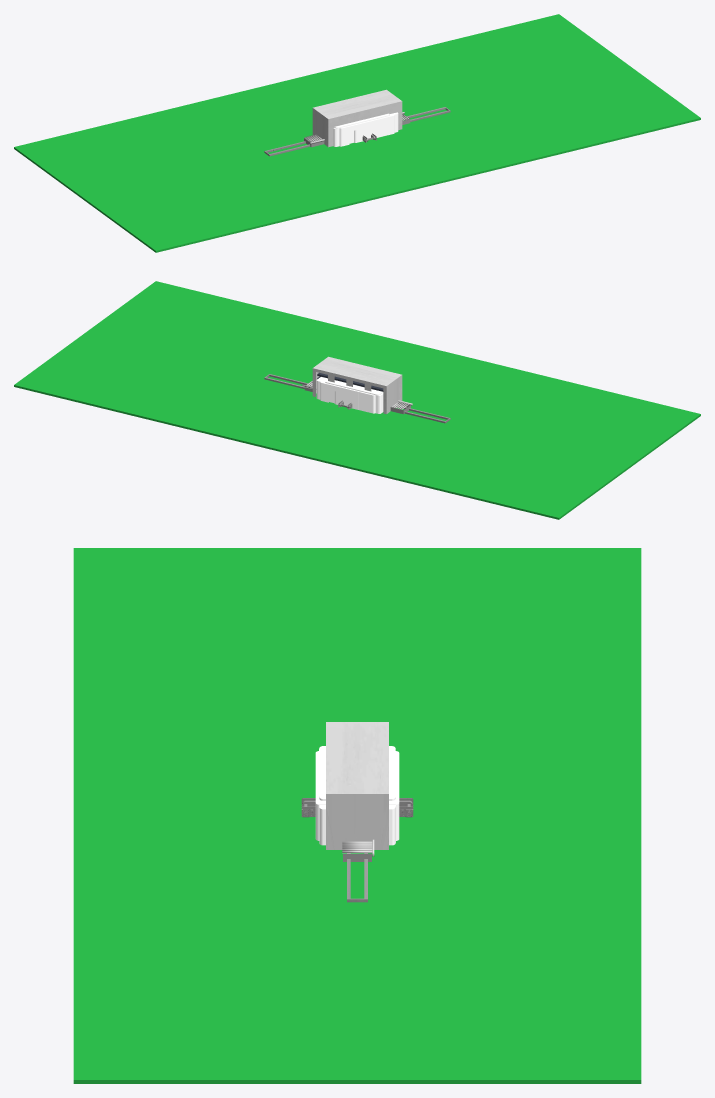
The model's file is machineMapNew.glb.
3 views of the same model, one above another, from view 1: azimuth 30°, elevation 25°; view 2: azimuth 150°, elevation 25°; view 3: azimuth 270°, elevation 25° (orthographic). The views are drawn at different scales.
Visible parts, largest first — view 1: 绿色地平, 料仓, 机床8, 机床5, 产线二轨道; view 2: 绿色地平, 料仓, 机床5, 机床8, 产线二轨道; view 3: 绿色地平, 料仓.
Part boxes in pixels (x1,y1,x2,y2): 绿色地平: (14,14,700,252); 料仓: (312,89,402,147); 机床8: (354,113,394,142); 机床5: (340,119,379,146); 产线二轨道: (264,107,450,155); 绿色地平: (14,281,700,519); 料仓: (312,356,402,414); 机床5: (335,391,375,413); 机床8: (320,378,360,409); 产线二轨道: (264,374,450,423); 绿色地平: (73,548,641,1083); 料仓: (326,722,388,849).
Size of the model in its own units: 1183711 by 120517 by 534034.
Materials: 128 (11 with a texture image).
